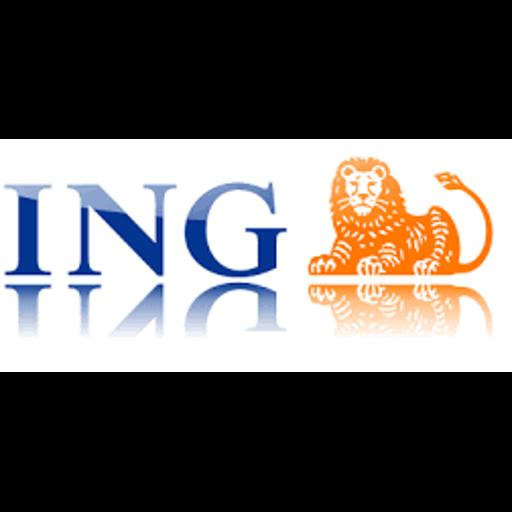ING: (0, 139, 512, 372)
